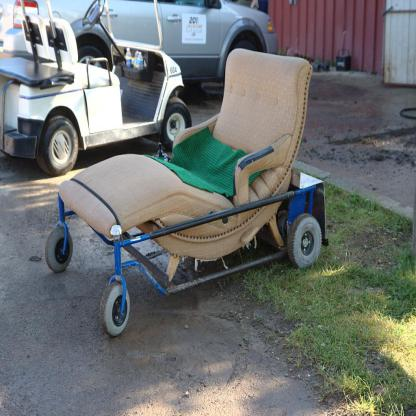Car: (0, 0, 279, 87)
